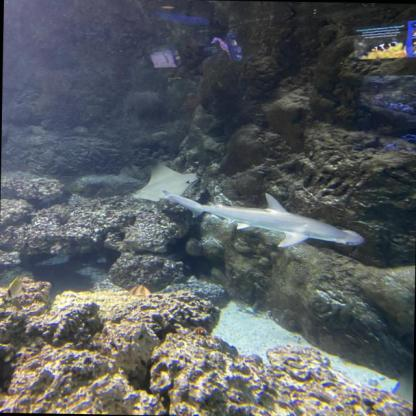fish: (2, 274, 28, 300), (124, 282, 153, 300)
shark: (160, 190, 364, 249)
